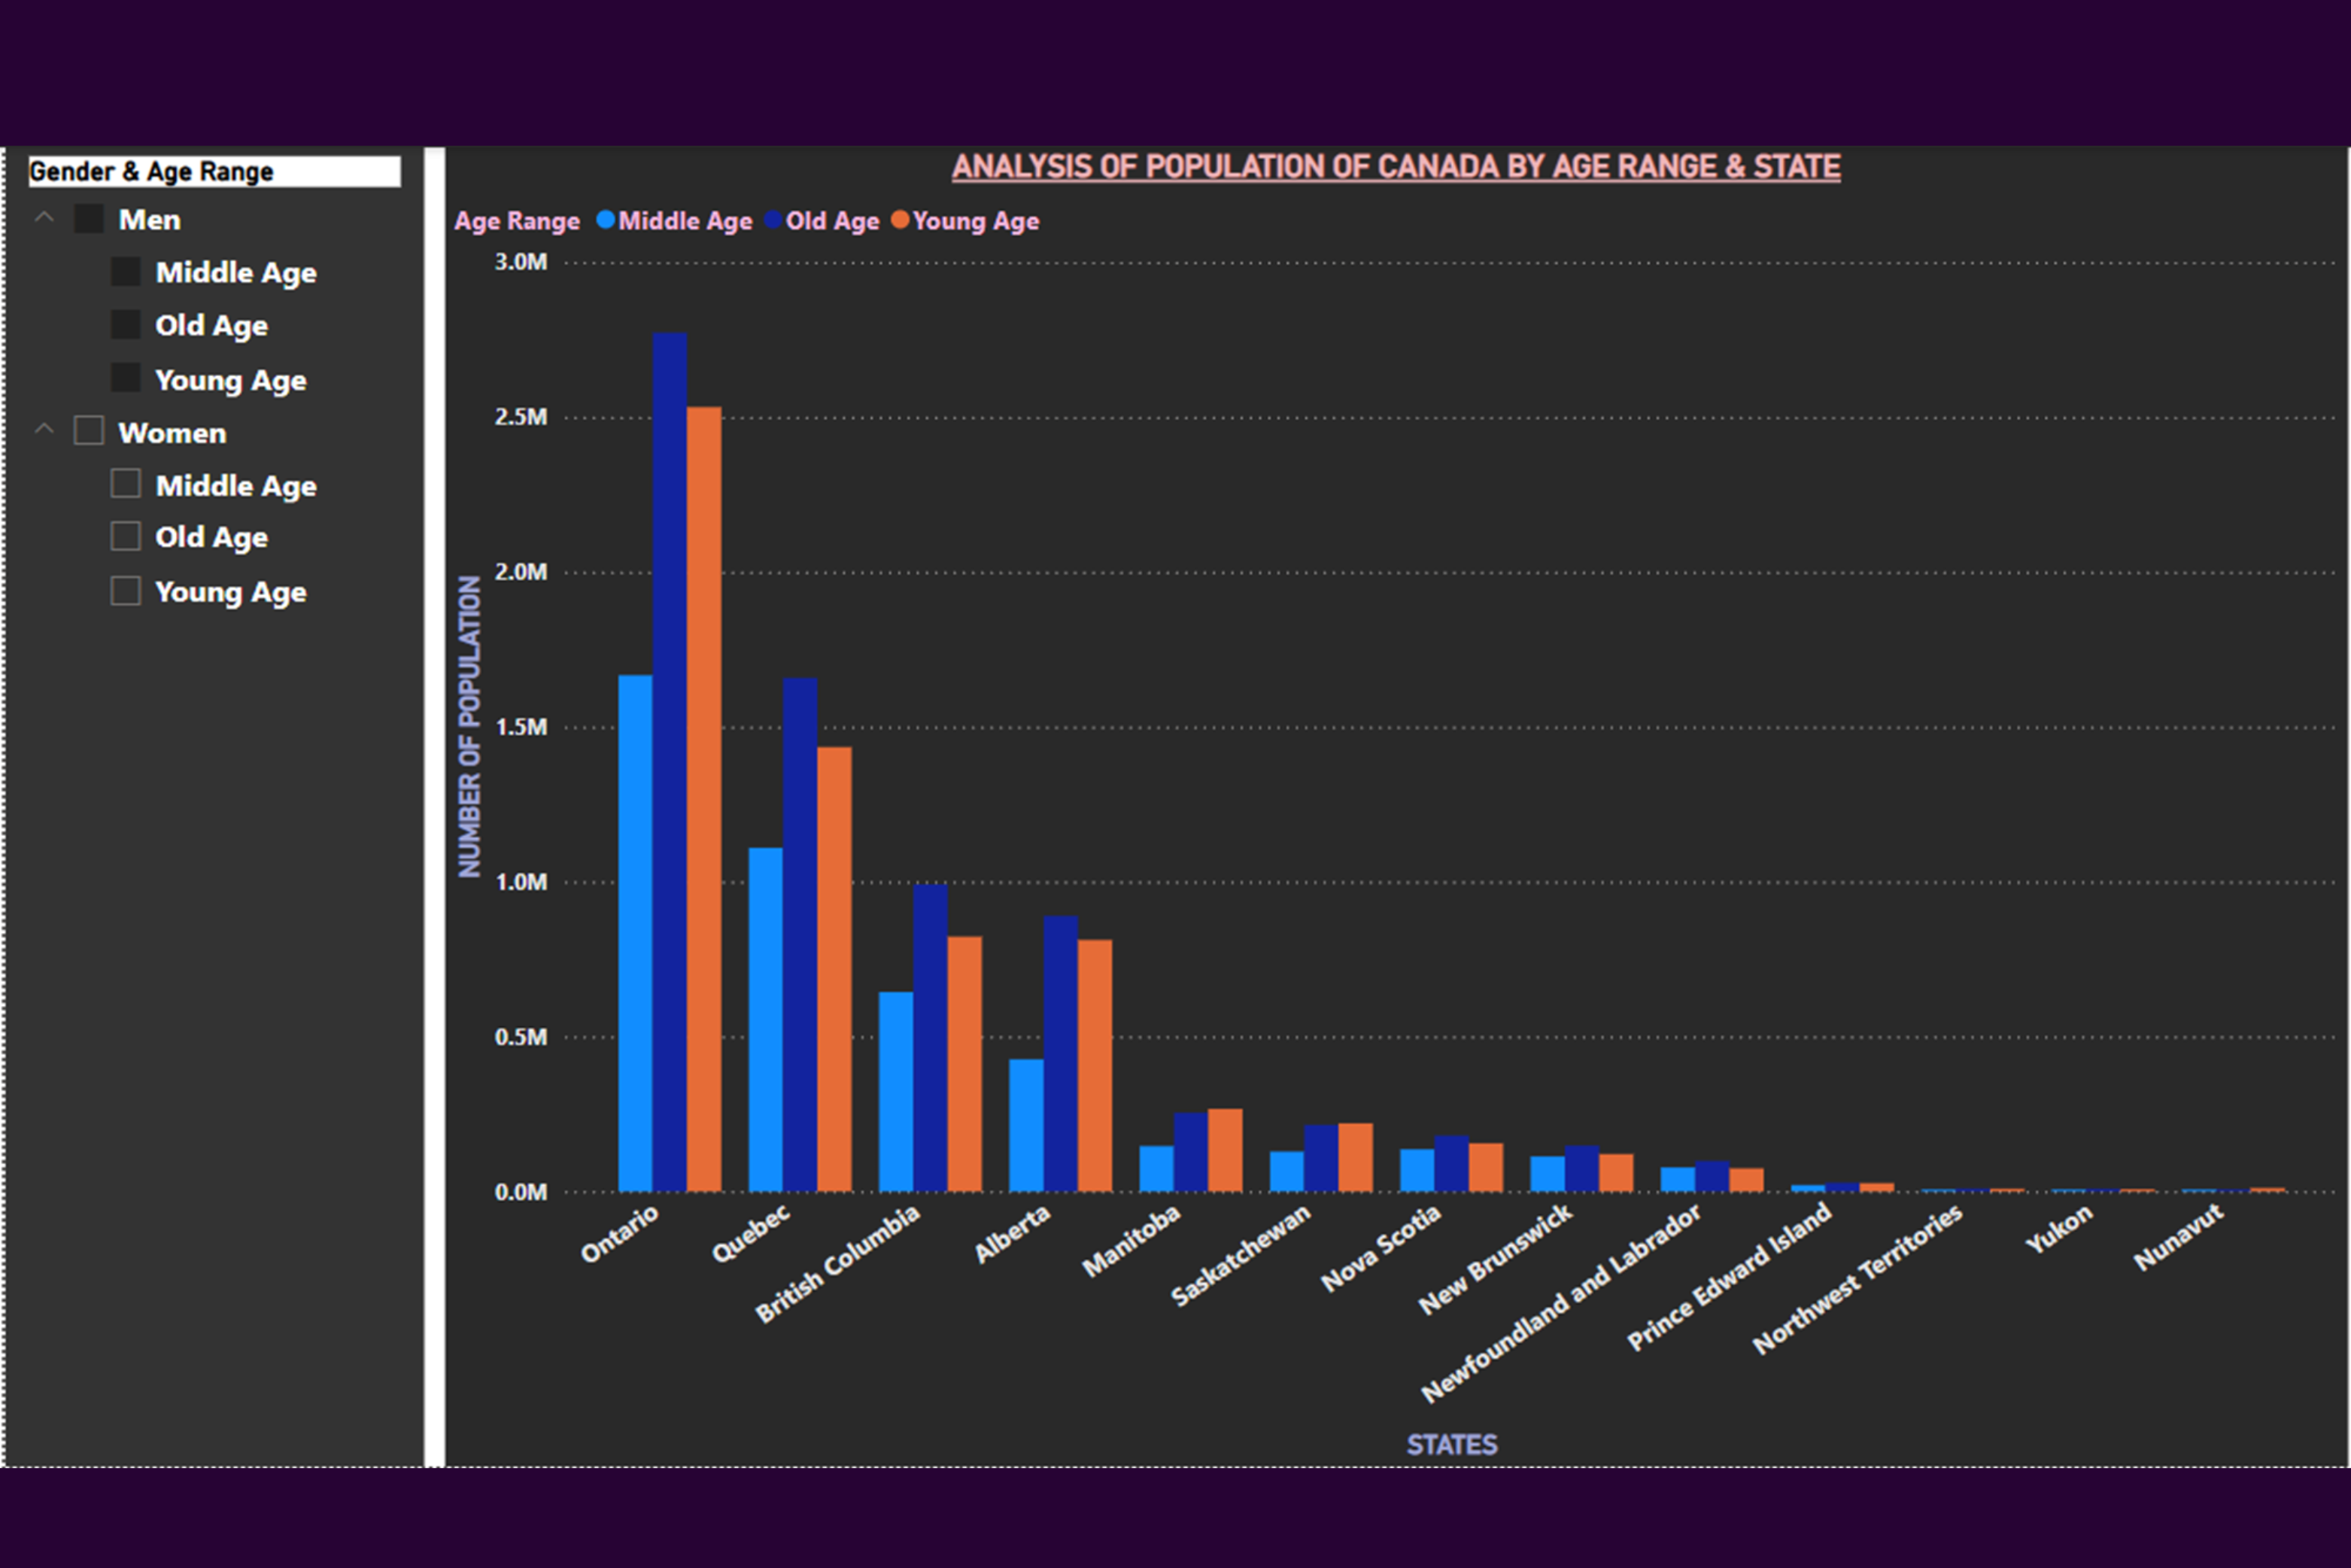

What the dashboard file says about the page in this screenshot:
{"tool":"powerbi","page":{"name":"Population Analysis","canvas":[1280,720],"ordinal":3},"visuals":[{"type":"clusteredColumnChart","title":"ANALYSIS OF POPULATION OF CANADA BY AGE RANGE & STATE","fields":{"Category":["Age_Census.GEO"],"Y":["Sum(Age_Census.VALUE)"],"Series":["Age_Census.Age Range"]},"box":[237.6,0,1028.8,720.3],"z":0},{"type":"slicer","fields":{"Values":["Age_Census.Gender","Age_Census.Age Range"]},"box":[0,0,226.4,720.3],"z":1000}]}

Visuals, with their boxes on the page's 1280x720 design canvas (x1, y1, x2, y2). These are canvas units, not pixel positions in the 2351x1568 screenshot, which may show the page scaled, cropped or inside an application window:
"ANALYSIS OF POPULATION OF CANADA BY AGE RANGE & STATE" clusteredColumnChart: [238, 0, 1266, 720]
slicer - Age_Census.Gender x Age_Census.Age Range: [0, 0, 226, 720]
